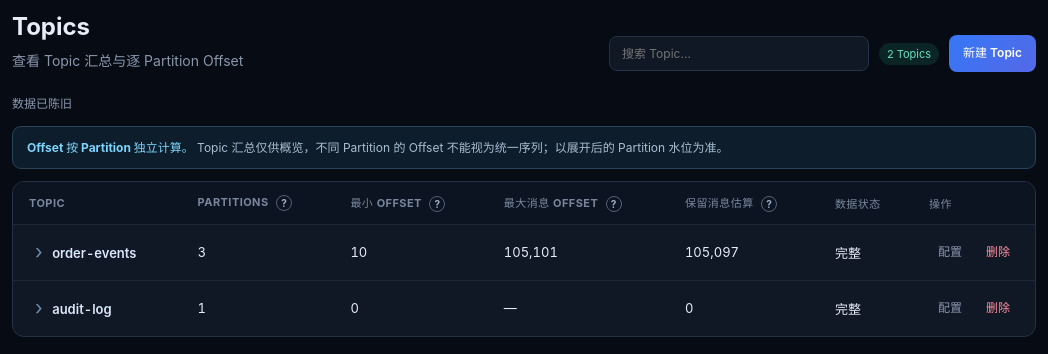
Scenario: shows topic overview calculations and filters by topic name
Type "ORDER" into the search field labelled "搜索 Topic" at (739,54), box [609, 36, 869, 71]
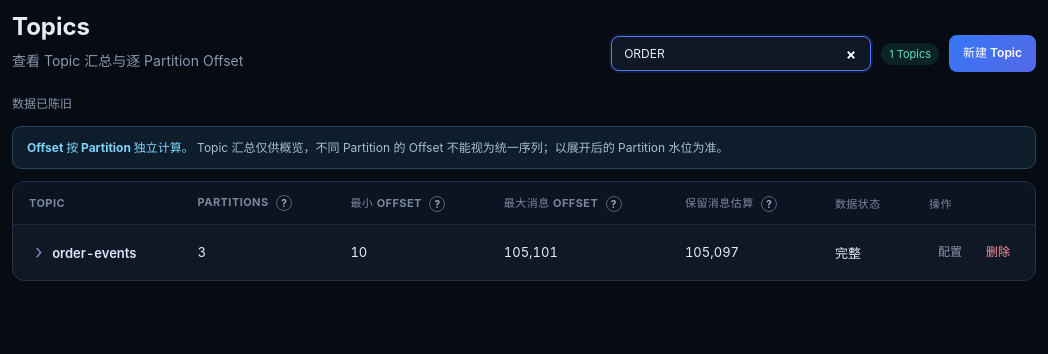
Expected: the text "order-events" is shown, [52, 246, 136, 262]
Now the text "audit-log" is gone
Clear the search field named "搜索 Topic" at (741,54), box [611, 36, 871, 71]
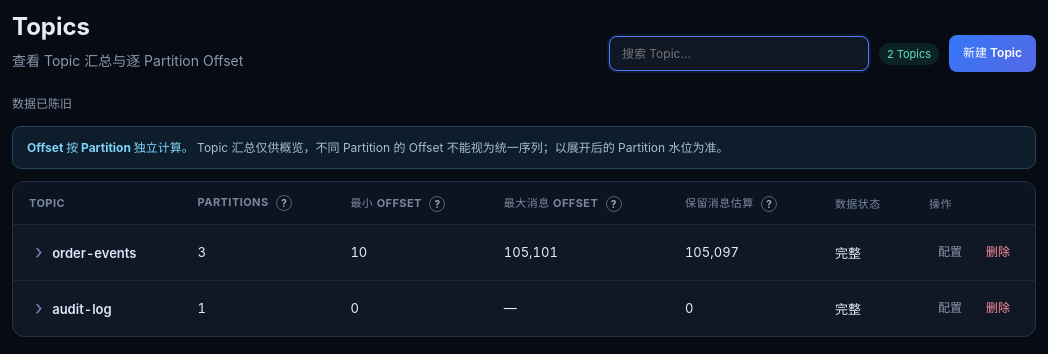
Type "missing" into the search field labelled "搜索 Topic" at (739,54), box [609, 36, 869, 71]
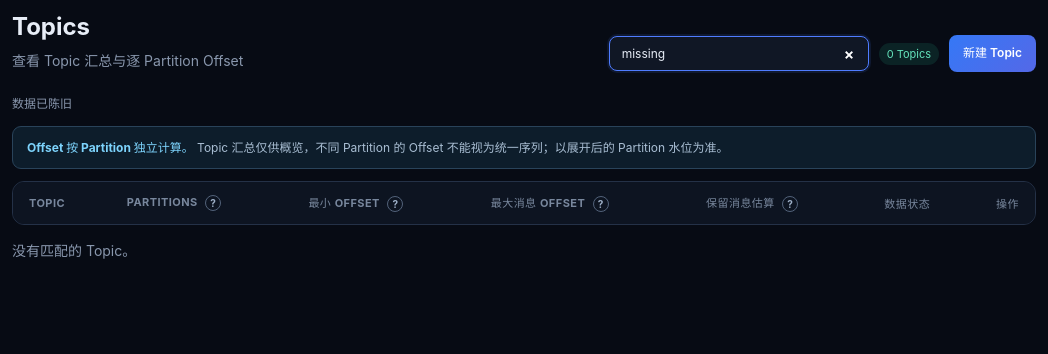
Now the text "没有匹配的 Topic。" is shown, box [12, 242, 136, 259]
